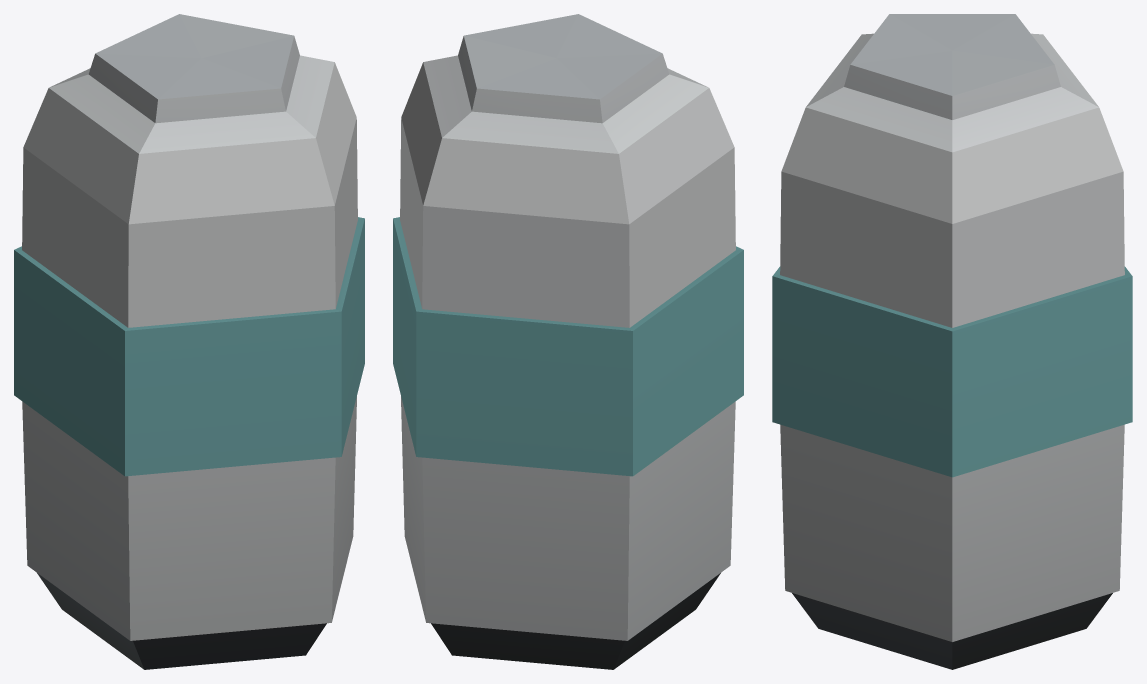
The model's file is canister.lod2.glb.
3 renders of one model, left to right at view 1: azimuth 30°, elevation 25°; view 2: azimuth 150°, elevation 25°; view 3: azimuth 270°, elevation 25°, orthographic.
Bounding box in the file's own units: 0.5101 × 0.92 × 0.5364.
